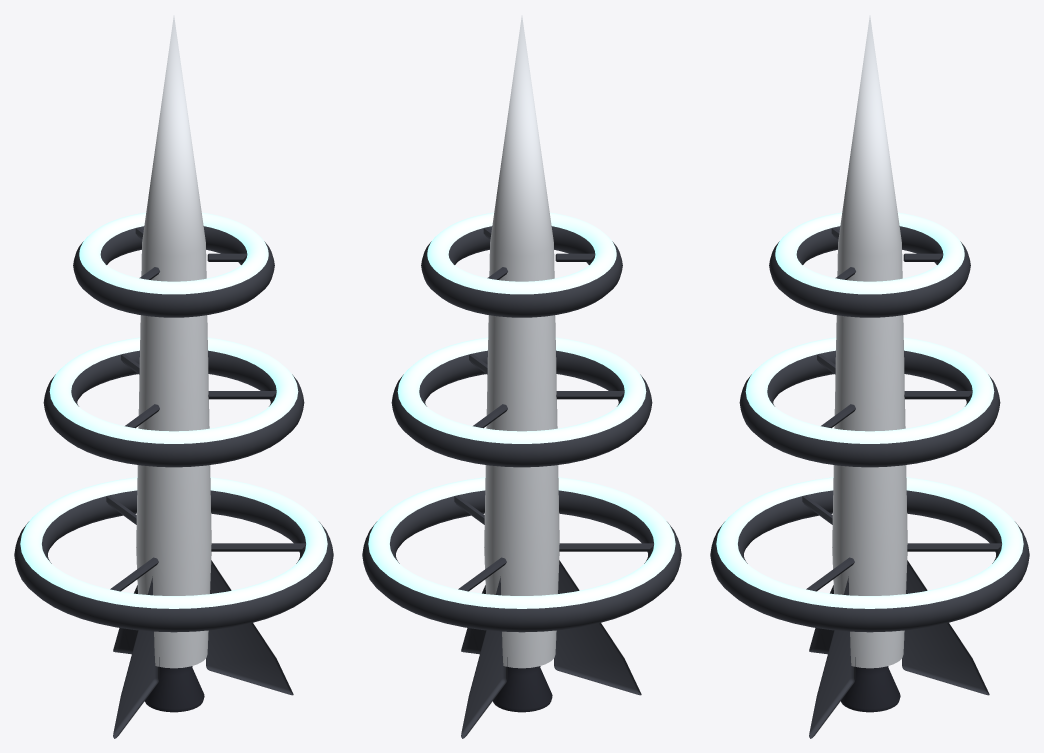
File: Rocket_23_RingDrive.fbx
3 views of the same model, side by side, from view 1: azimuth 30°, elevation 25°; view 2: azimuth 150°, elevation 25°; view 3: azimuth 270°, elevation 25° (orthographic).
Visible parts, largest first — view 1: R23_Spear, R23_DriveRingFrame, R23_DriveRing, R23_DriveRingFrame_2, R23_DriveRing_2, R23_DriveRingFrame_3, R23_DriveRing_3, R23_Fin_3, R23_Fin_2, R23_Nozzle, R23_Spoke_3, R23_Spoke_6; view 2: R23_Spear, R23_DriveRingFrame, R23_DriveRing, R23_DriveRingFrame_2, R23_DriveRing_2, R23_DriveRingFrame_3, R23_DriveRing_3, R23_Fin_2, R23_Fin, R23_Nozzle, R23_Spoke_2, R23_Spoke_5; view 3: R23_Spear, R23_DriveRingFrame, R23_DriveRing, R23_DriveRingFrame_2, R23_DriveRing_2, R23_DriveRingFrame_3, R23_DriveRing_3, R23_Fin, R23_Fin_3, R23_Nozzle, R23_Spoke, R23_Spoke_4.
Part boxes in pixels (<box>): R23_Spear: <box>136,15,211,668</box>; R23_DriveRingFrame: <box>14,490,333,632</box>; R23_DriveRing: <box>20,477,327,608</box>; R23_DriveRingFrame_2: <box>43,350,304,467</box>; R23_DriveRing_2: <box>49,337,298,443</box>; R23_DriveRingFrame_3: <box>73,226,274,317</box>; R23_DriveRing_3: <box>79,212,268,294</box>; R23_Fin_3: <box>206,560,293,695</box>; R23_Fin_2: <box>113,576,159,738</box>; R23_Nozzle: <box>144,666,204,712</box>; R23_Spoke_3: <box>211,543,305,551</box>; R23_Spoke_6: <box>208,391,276,399</box>; R23_Spear: <box>484,15,559,668</box>; R23_DriveRingFrame: <box>362,490,681,632</box>; R23_DriveRing: <box>368,477,675,608</box>; R23_DriveRingFrame_2: <box>391,350,652,467</box>; R23_DriveRing_2: <box>397,337,646,443</box>; R23_DriveRingFrame_3: <box>421,226,622,317</box>; R23_DriveRing_3: <box>427,212,616,294</box>; R23_Fin_2: <box>554,560,641,695</box>; R23_Fin: <box>461,576,507,738</box>; R23_Nozzle: <box>493,666,552,712</box>; R23_Spoke_2: <box>559,543,653,551</box>; R23_Spoke_5: <box>556,391,624,399</box>; R23_Spear: <box>832,15,907,668</box>; R23_DriveRingFrame: <box>710,490,1029,632</box>; R23_DriveRing: <box>716,477,1023,608</box>; R23_DriveRingFrame_2: <box>739,350,1000,467</box>; R23_DriveRing_2: <box>745,337,994,443</box>; R23_DriveRingFrame_3: <box>769,226,970,317</box>; R23_DriveRing_3: <box>775,212,964,294</box>; R23_Fin: <box>902,560,989,695</box>; R23_Fin_3: <box>809,576,855,738</box>; R23_Nozzle: <box>841,666,900,712</box>; R23_Spoke: <box>907,543,1001,551</box>; R23_Spoke_4: <box>904,391,972,399</box>.
Bounding box in the file's own units: 3.8 × 9 × 3.8.
